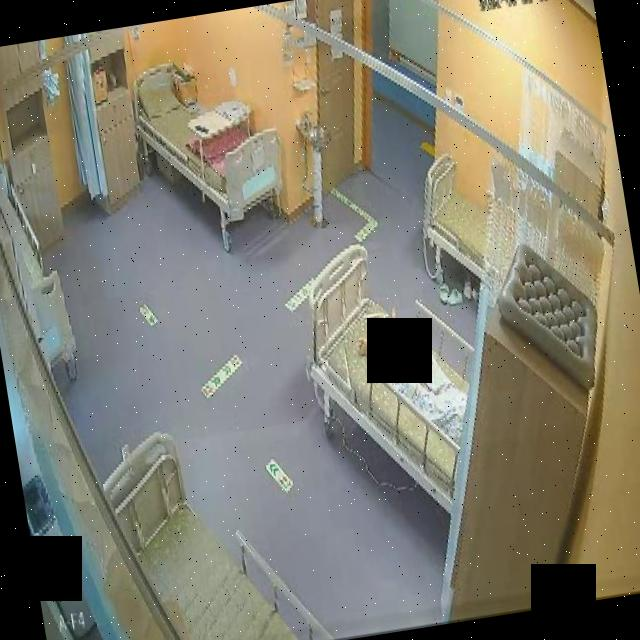bed: (294, 232, 488, 526), (94, 408, 333, 640), (128, 51, 290, 233), (413, 150, 497, 288)
lie: (352, 294, 476, 460)
patient: (352, 292, 475, 460)
